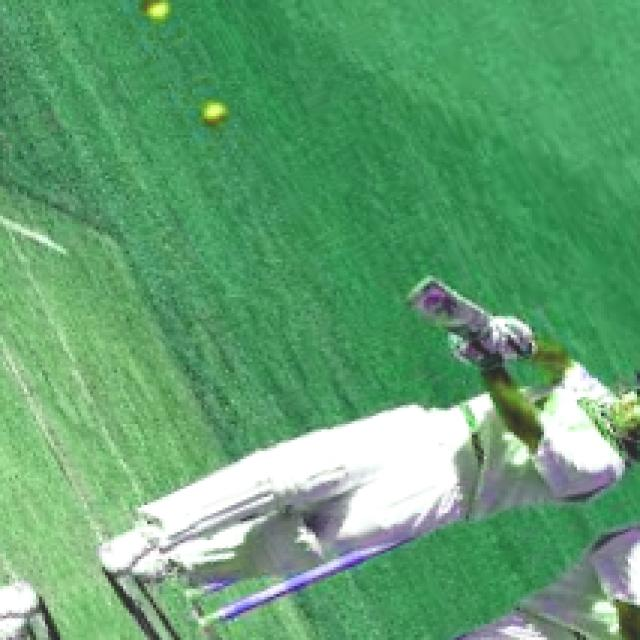toe: (396, 266, 445, 310)
